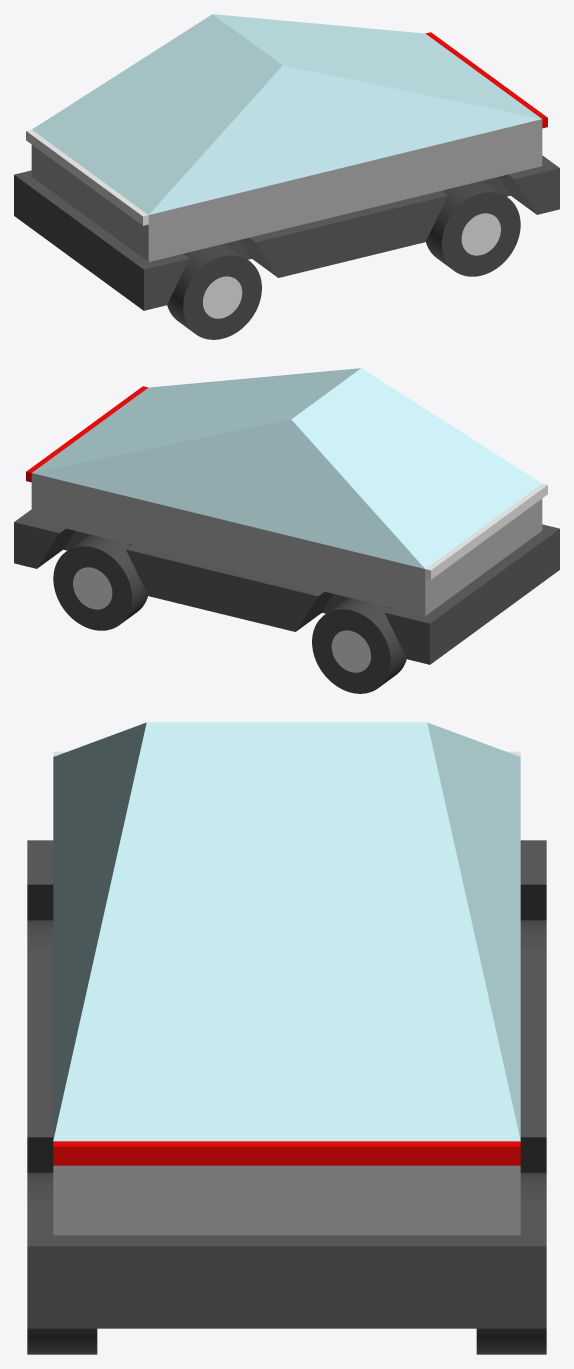
File: stylized-cybertruck.glb
3 renders of one model, top to bottom at view 1: azimuth 30°, elevation 25°; view 2: azimuth 150°, elevation 25°; view 3: azimuth 270°, elevation 25°, orthographic. The views are drawn at different scales.
Size of the model in its own units: 3.7 by 1.95 by 2.
